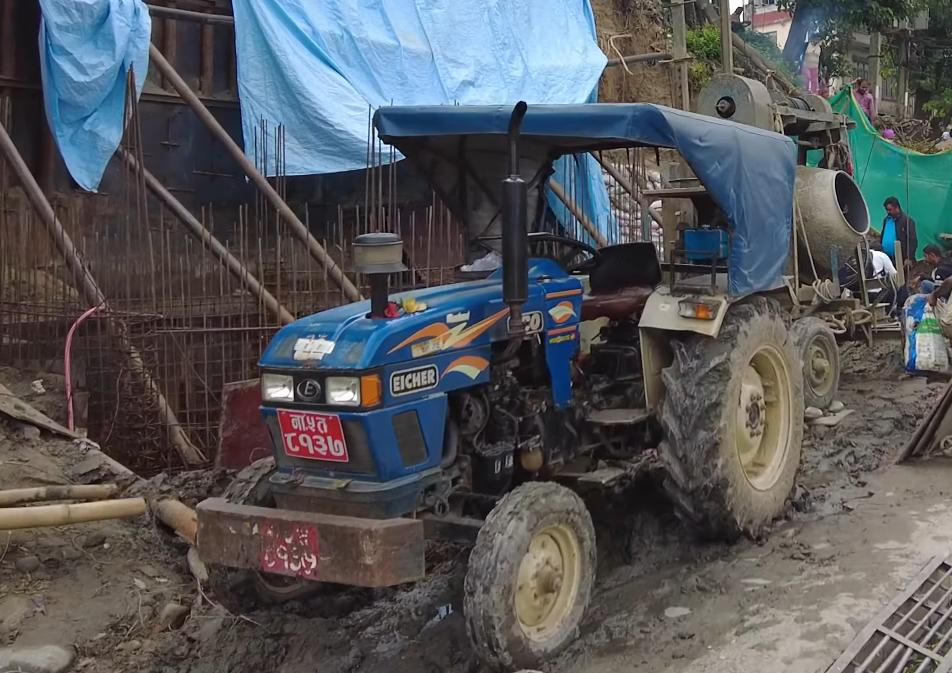tractor: (178, 85, 818, 673)
